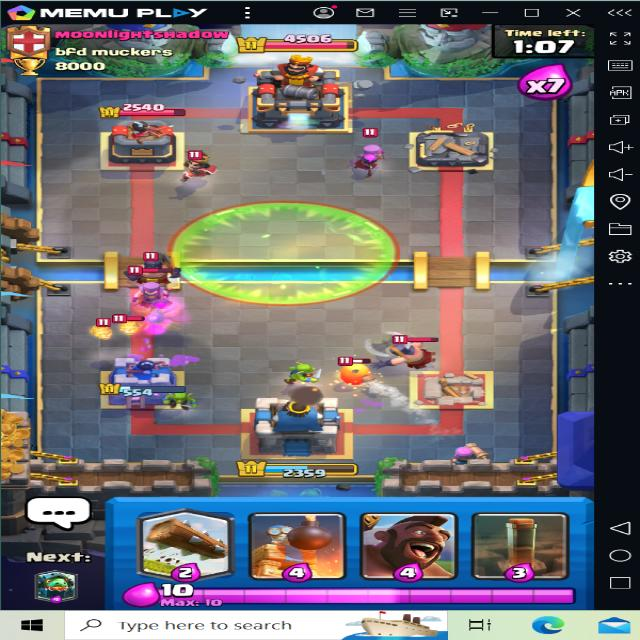executioner: (125, 252, 198, 292), (382, 330, 439, 370)
goblin-curse: (169, 200, 402, 306)
little-prince: (176, 144, 223, 184)
mother-witch: (120, 267, 185, 316), (338, 124, 392, 175)
phoenix-egg: (334, 355, 374, 385)
